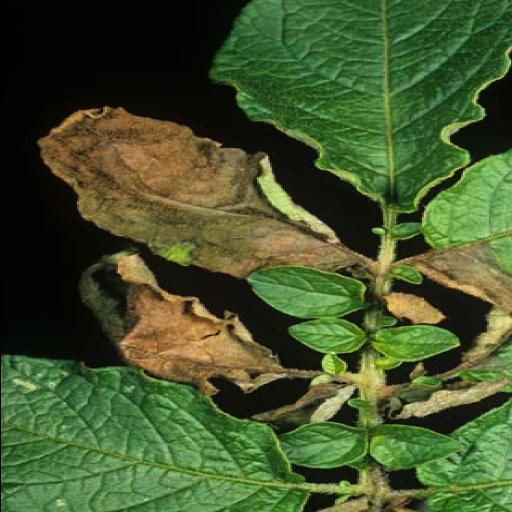Late Blight: (32, 98, 378, 284), (76, 247, 293, 399)
